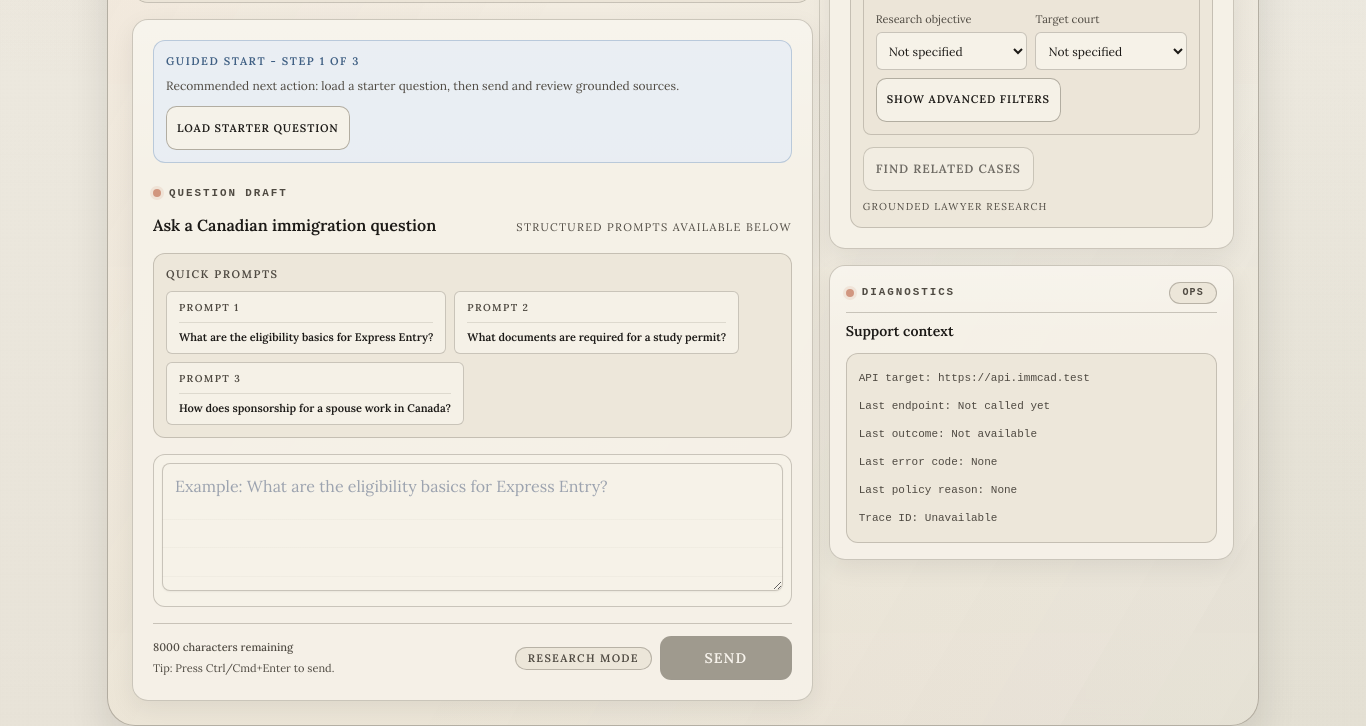
Scenario: chat shell contract behavior › renders policy refusal UX without case-search request
(page scrolled)
Step 1. Type "Can you represent me in my application?" into the text box labelled "Ask a Canadian immigration question" → (472,527), box [162,463,783,591]
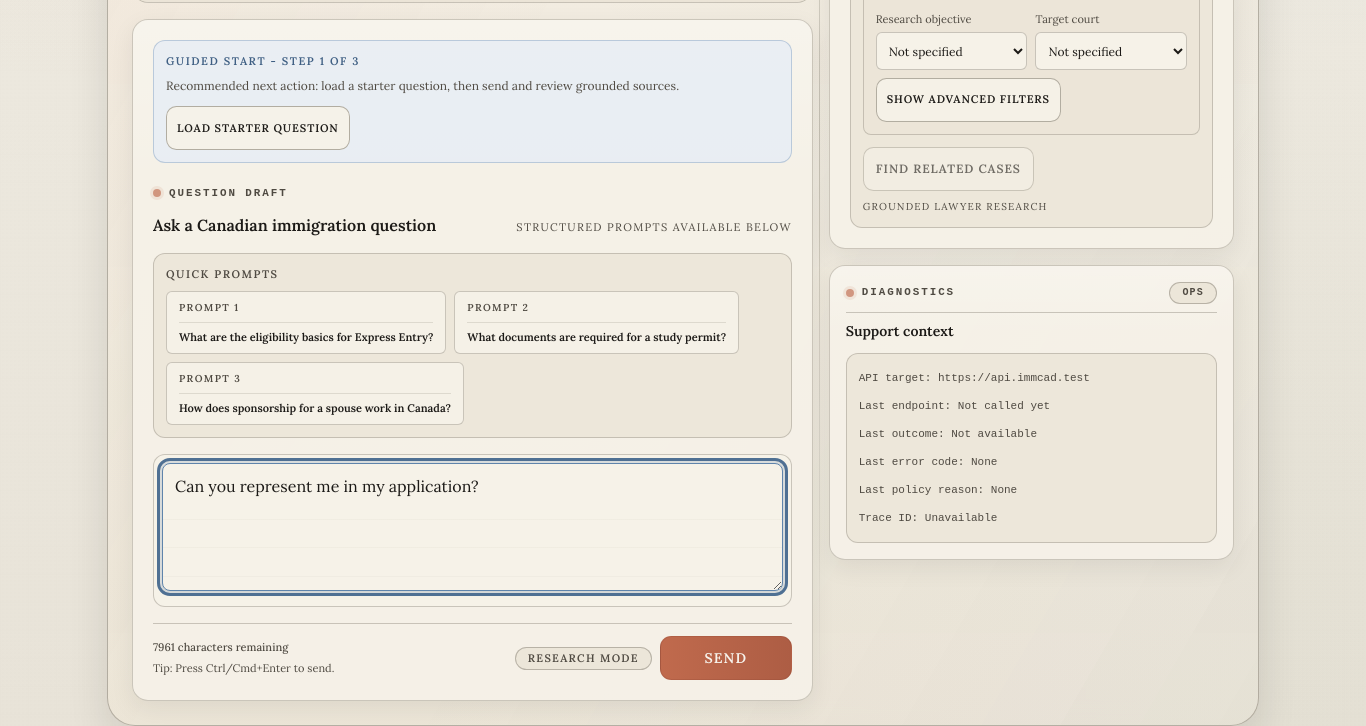
Step 2. Click the button "Send" → (726,658), box [660,636,792,680]
(page scrolled)
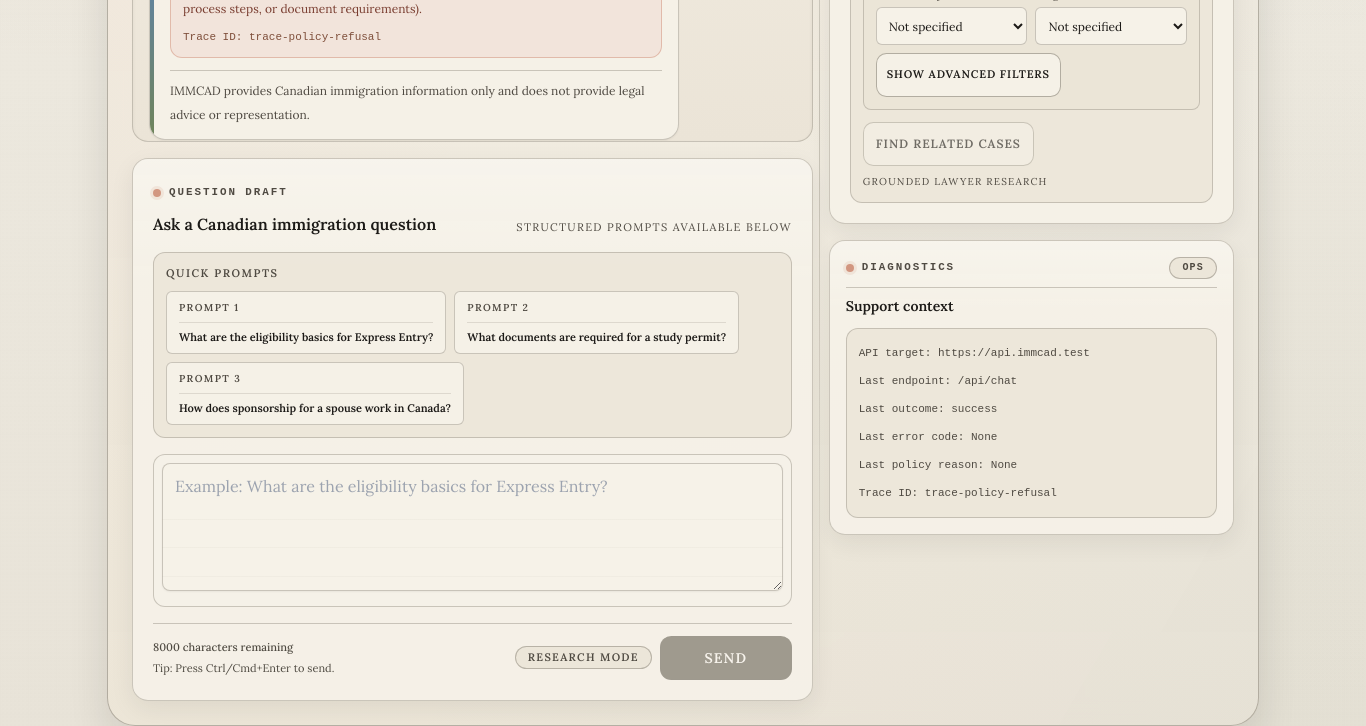
Result: the text "Trace ID: trace-policy-refusal" below "Policy refusal response" is shown at [183,31,381,43]
Result: the text "Last endpoint: /api/chat" is shown at [859,375,1017,387]
